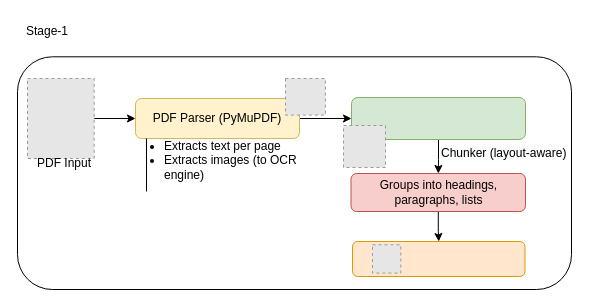
This 610x307 diagram has some shape labels left out. Grey dashed boxes stand in for pictures. The shapes that lost their labels are listed below. From the top down, each one's box as (x1, y1, x2, y2) in pixels, then its label:
(350, 96, 526, 140): Extracts text from scanned images
(352, 240, 525, 276): JSON Export
